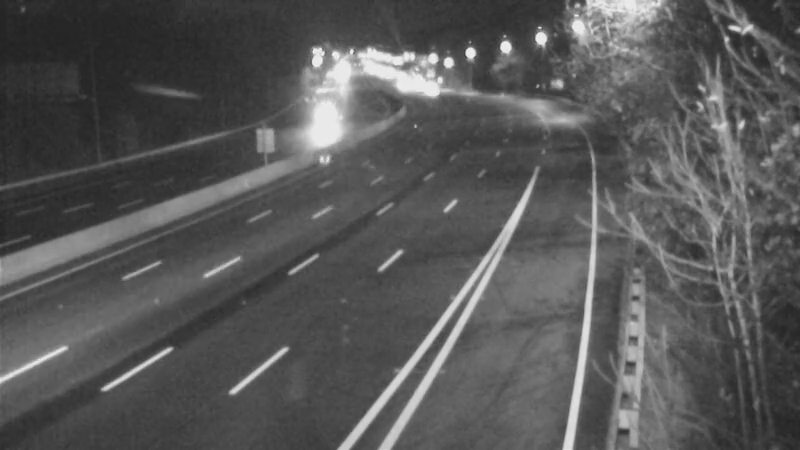vehicle: (404, 70, 454, 120), (292, 86, 342, 136)
